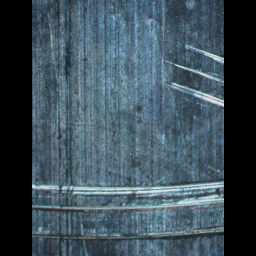d: (31, 173, 223, 243), (158, 30, 223, 115)
